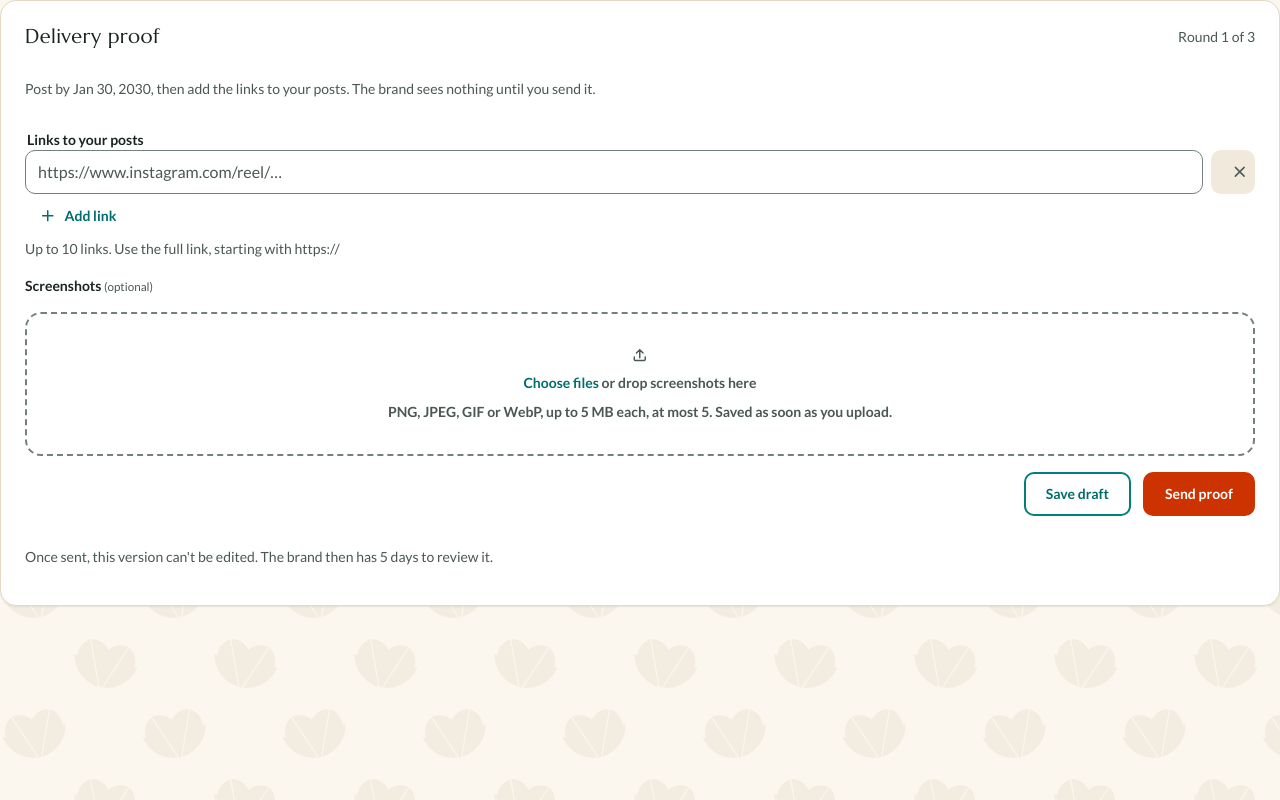
Test case: asks for a working link and a confirmation before sending, then shows the review timer
Click the button "Send proof" at {"x": 1199, "y": 494}, box [1143, 472, 1255, 516]
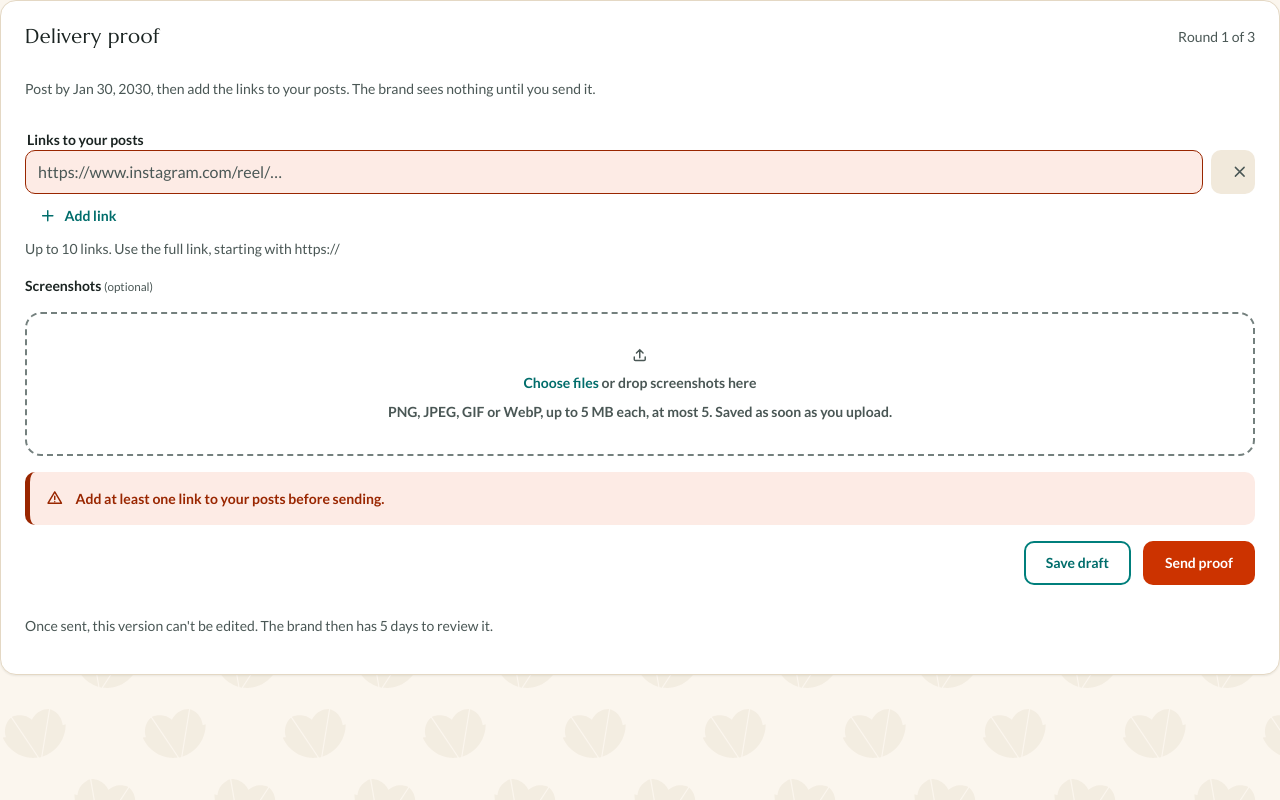
Expected: the message shows "Add at least one link", [76, 490, 384, 506]
Type "instagram dot com" into the field named "Link 1" at {"x": 614, "y": 172}, box [25, 150, 1203, 194]
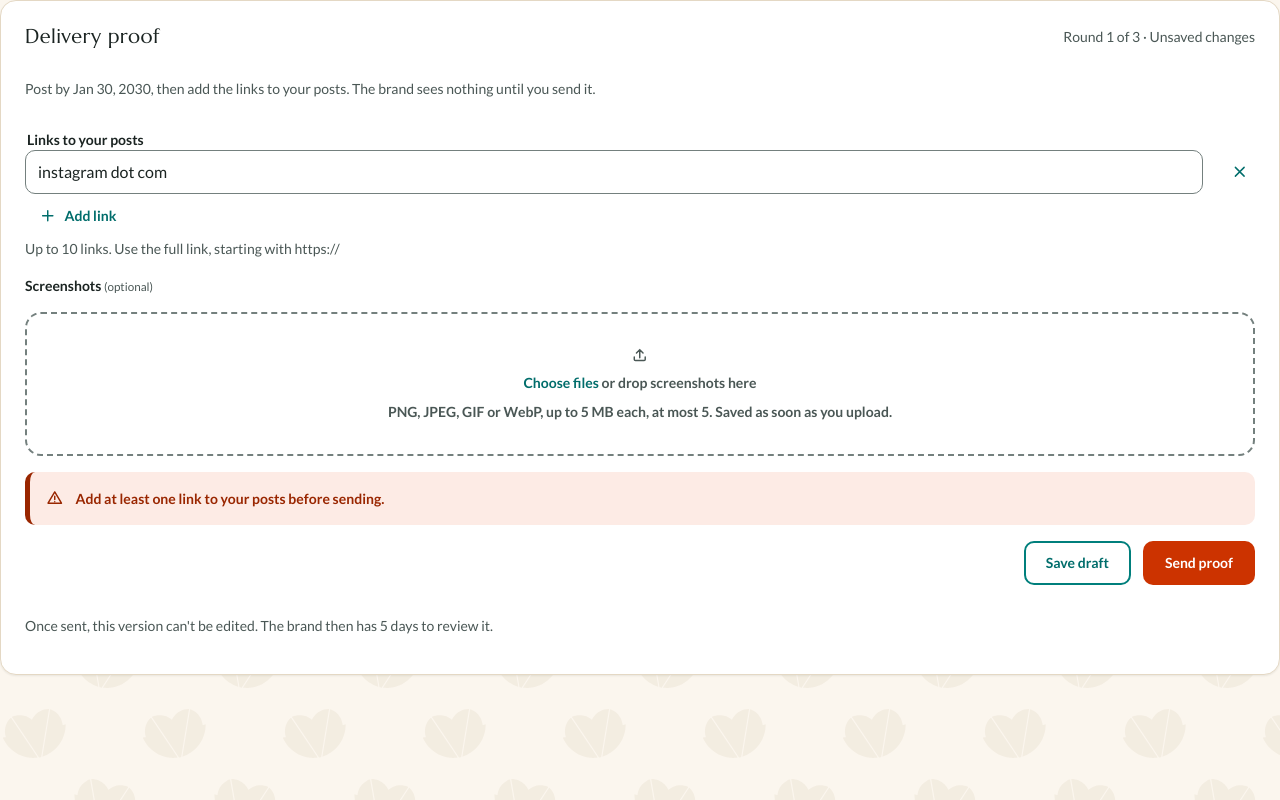
Click the button "Send proof" at {"x": 1199, "y": 562}, box [1143, 540, 1255, 584]
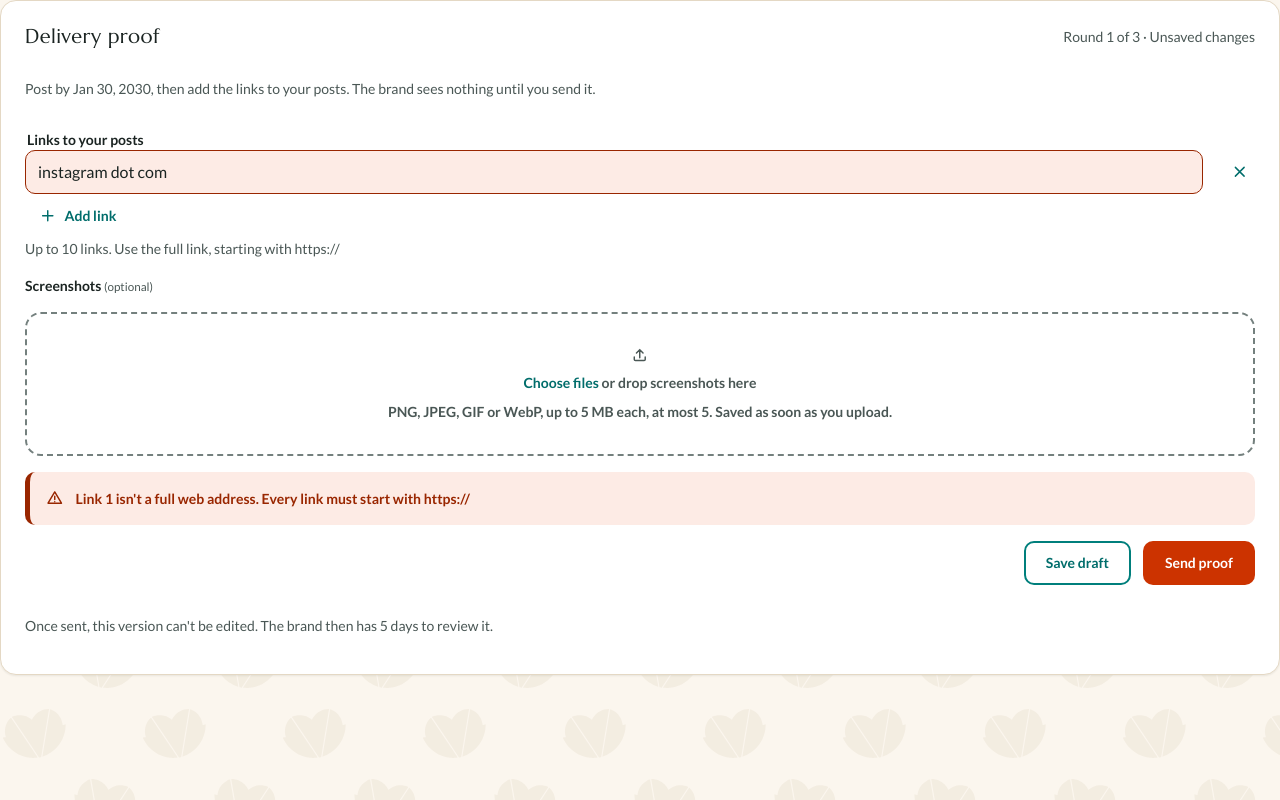
Expected: the message shows "full web address", [76, 490, 470, 506]
Replace the text in the field named "Link 1" with "https://example.com/post" at {"x": 614, "y": 172}, box [25, 150, 1203, 194]
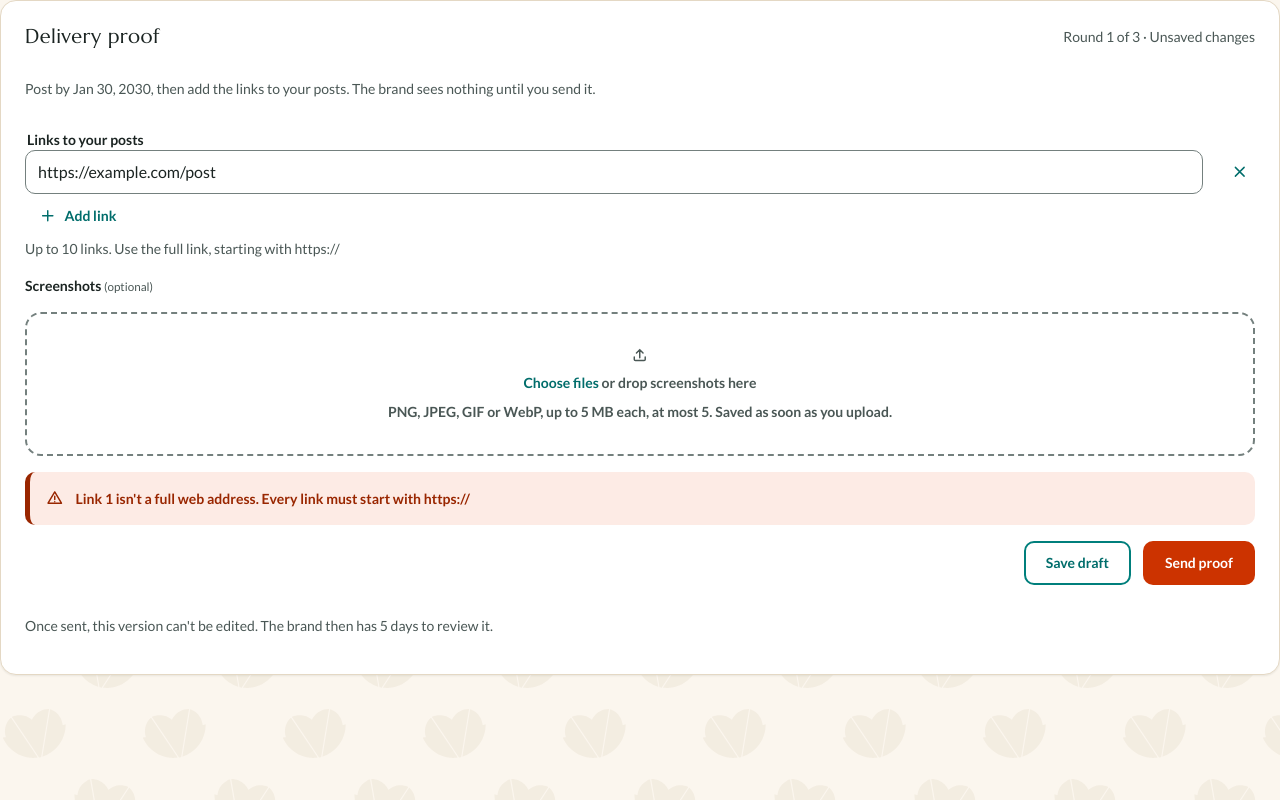
Click the button "Send proof" at {"x": 1199, "y": 562}, box [1143, 540, 1255, 584]
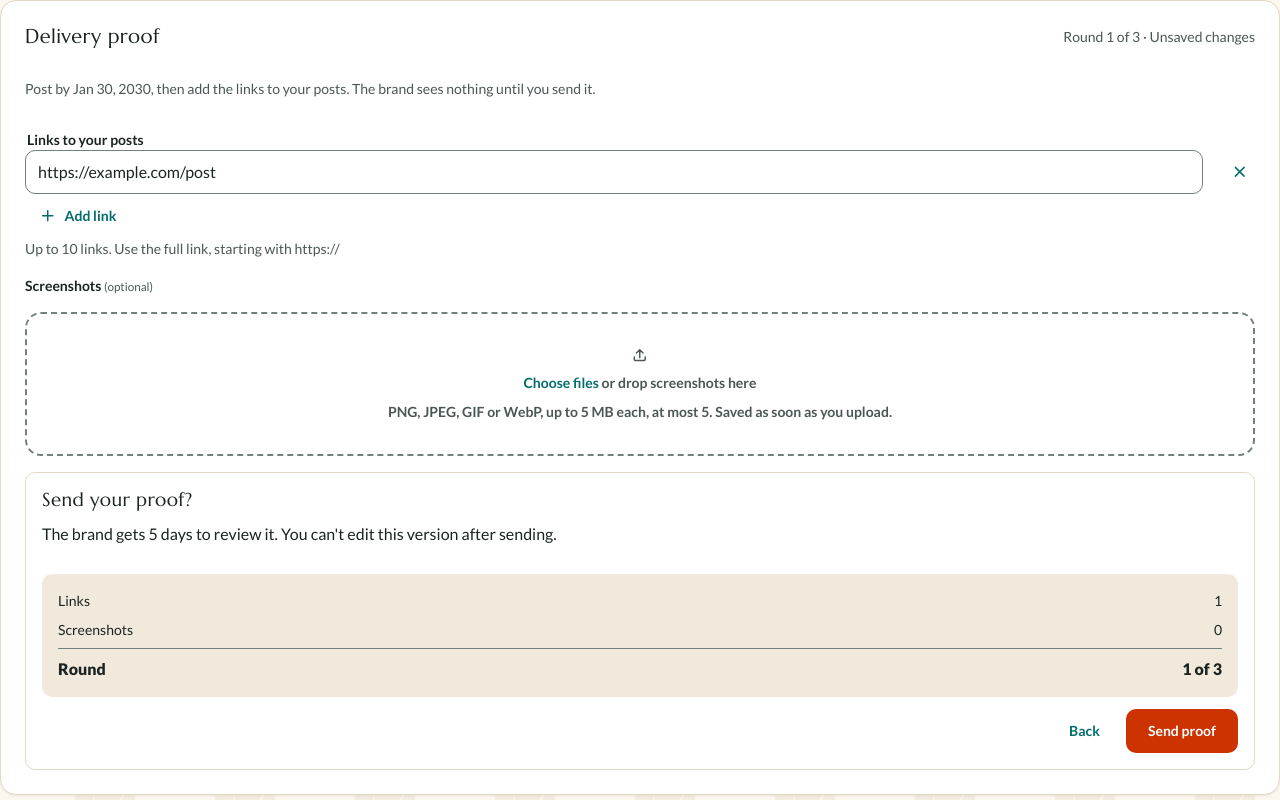
Expected: the element "Send your proof?" is shown, [25, 472, 1255, 770]
Click the button "Send proof" at {"x": 1182, "y": 731}, box [1126, 709, 1238, 753]
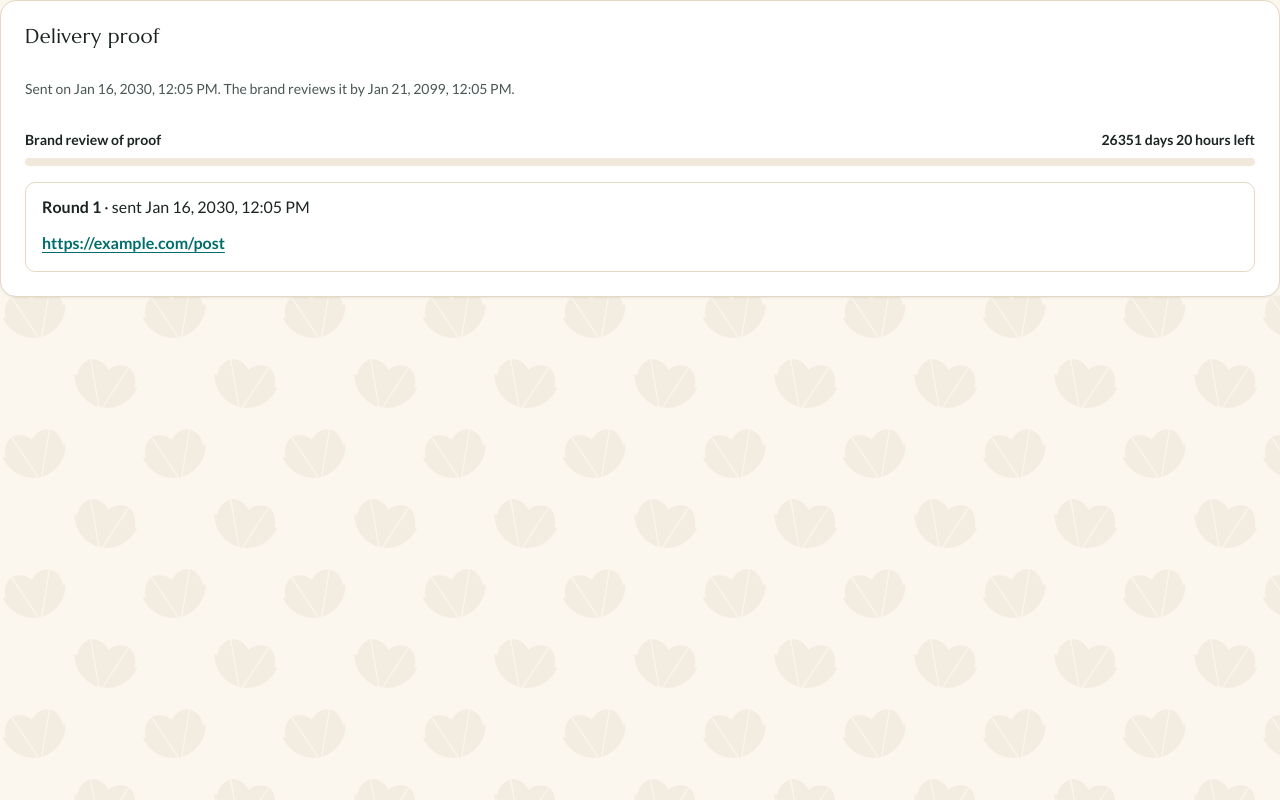
Expected: the text labelled "Link 1" is not shown
Expected: the text "The brand reviews it by" is shown, [218, 80, 365, 97]
Expected: the progress indicator named "Brand review of proof" is shown, [25, 158, 1255, 166]
